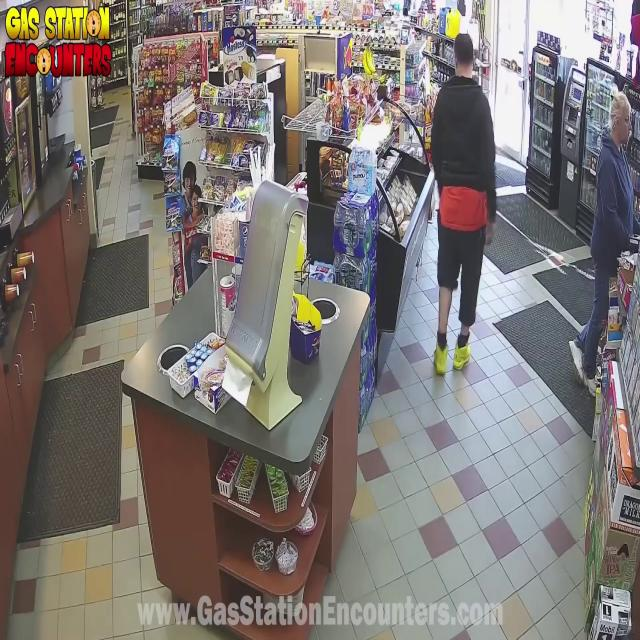normal: (394, 18, 515, 387), (566, 70, 640, 400)
